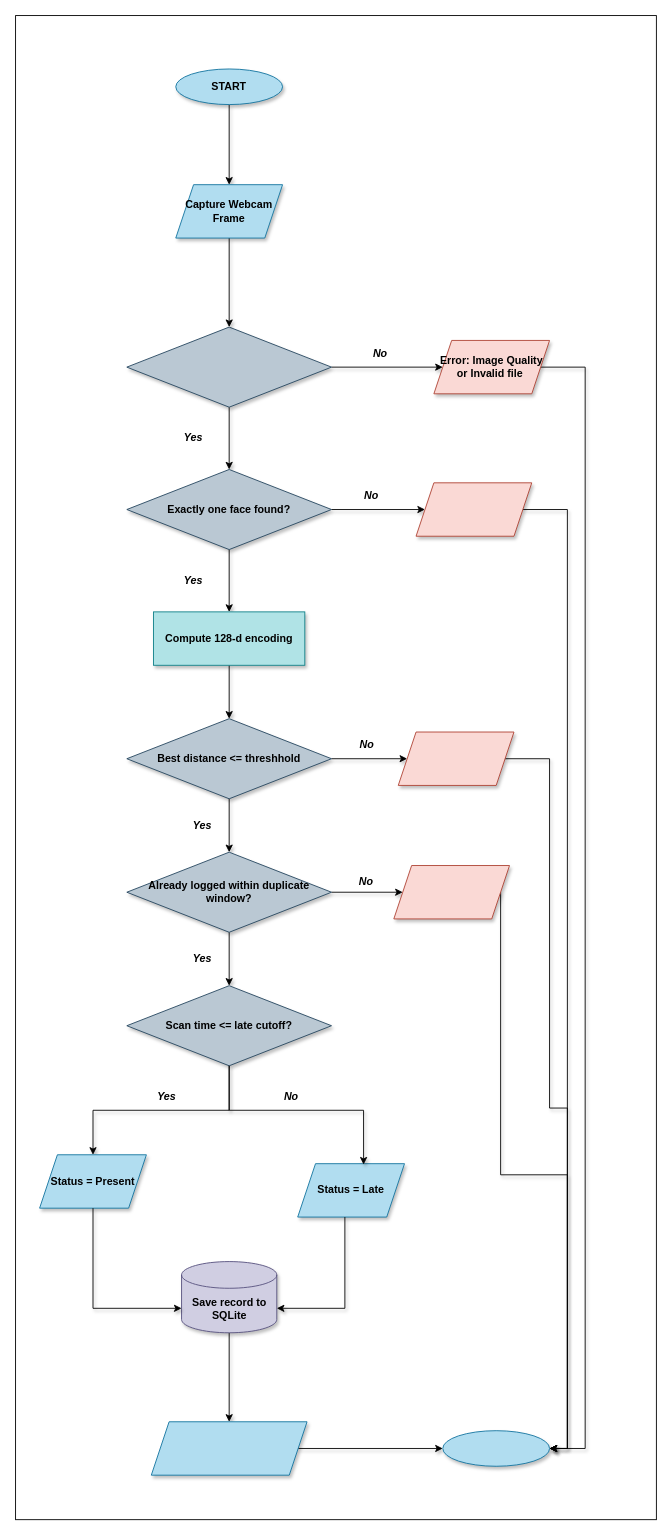
Some shapes in this 672 by 1535 pixel diagram are drawn without their labels. The shapes that lost their labels are listed below. From the top down, each one's centre as x and y in pixels, then its label:
(229,368): Image Valid? Image Sharp? Image Bright?
(474,510): Error: No face or multiple faces found
(456,760): Unknown Person (No record saved)
(452,893): Duplicate record (No new record saved)
(229,1449): Output: Welcome, Name (Present, Late, time)
(496,1449): END
